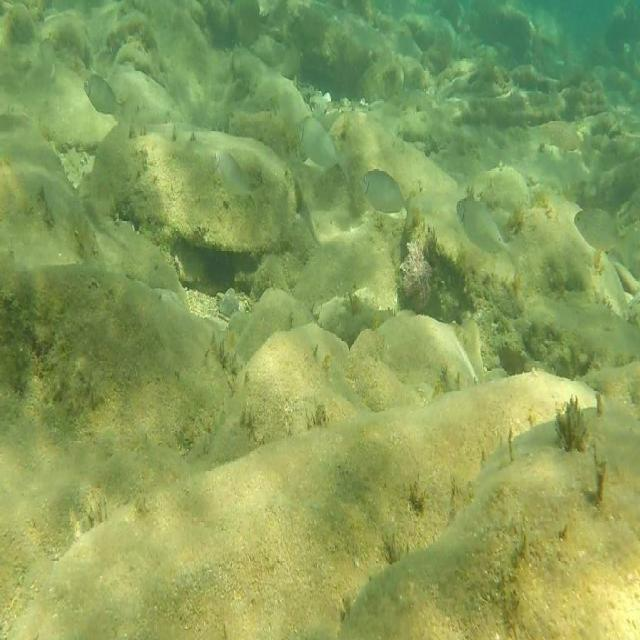Sokar Baligi: (454, 178, 534, 292), (356, 152, 424, 250), (288, 109, 355, 192)
